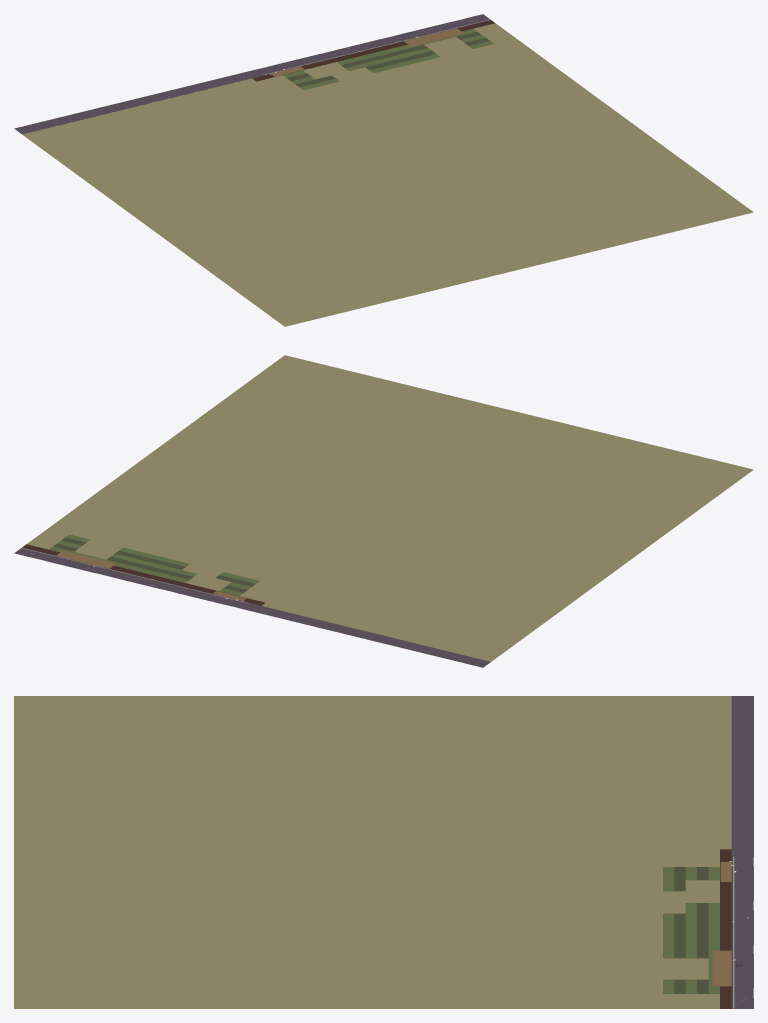
The model's file is cure-0-2.glb.
The picture shows the model from 3 angles, top to bottom: view 1: azimuth 30°, elevation 25°; view 2: azimuth 150°, elevation 25°; view 3: azimuth 270°, elevation 25°; orthographic projection. The views are drawn at different scales.
Parts seen in each view (by area): view 1: cure-0-2; view 2: cure-0-2; view 3: cure-0-2.
Part boxes in pixels (<box>): cure-0-2: <box>14,14,753,326</box>; cure-0-2: <box>14,355,753,667</box>; cure-0-2: <box>14,696,753,1008</box>.
Bounding box in the file's own units: 100 × 0.015 × 100.
